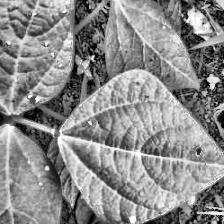Bean Rust: (65, 69, 224, 224), (0, 0, 75, 110), (0, 121, 70, 224)
